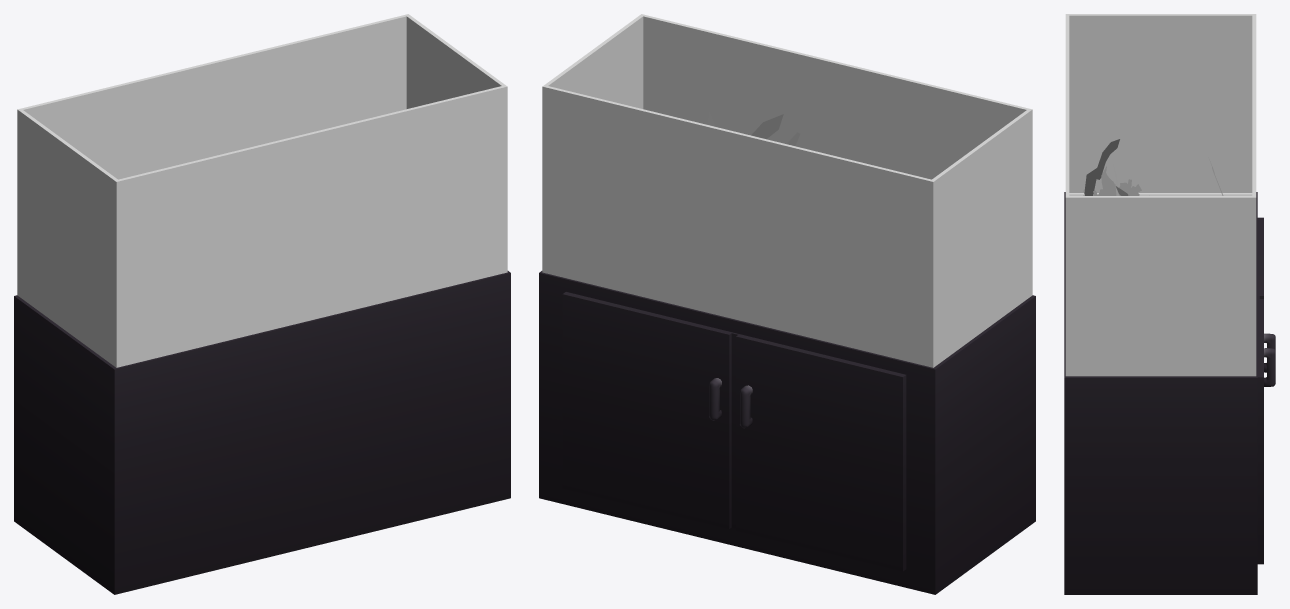
File: mesh_fishtankBottom_005.fbx
3 renders of one model, left to right at view 1: azimuth 30°, elevation 25°; view 2: azimuth 150°, elevation 25°; view 3: azimuth 270°, elevation 25°, orthographic. The views are drawn at different scales.
Visible parts, largest first — view 1: Aquarium_glass, Fish tank; view 2: Aquarium_glass, Fish tank; view 3: Aquarium_glass, Fish tank, smol_chunk_back_right.
Boxes of the visible parts, x1,y1,x2,y2 form: Aquarium_glass: (17, 14, 507, 367); Fish tank: (14, 271, 510, 594); Aquarium_glass: (542, 14, 1032, 367); Fish tank: (539, 271, 1035, 594); Aquarium_glass: (1065, 14, 1256, 376); Fish tank: (1064, 192, 1275, 594); smol_chunk_back_right: (1084, 139, 1119, 195).
Size of the model in its own units: 311 by 308 by 149.
